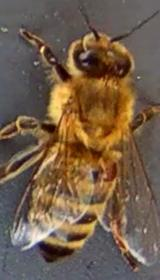varroa_mite: (93, 146, 121, 182)
